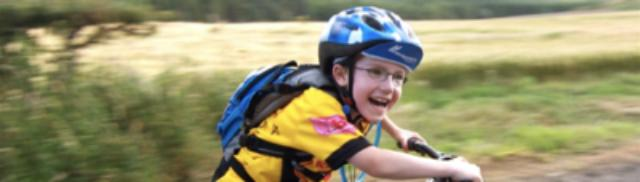With Helmet: (315, 5, 425, 125)
